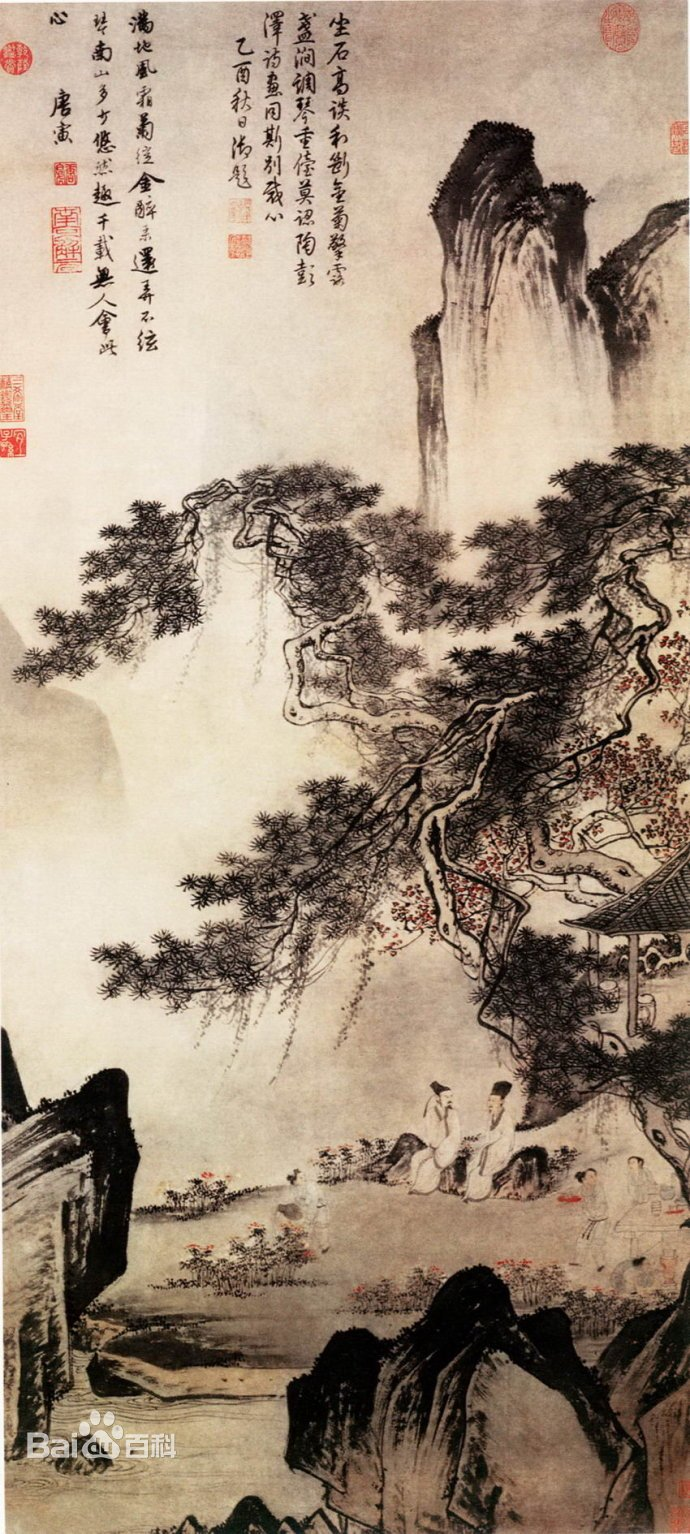booth: (581, 852, 690, 1024)
flower: (591, 749, 690, 849), (632, 639, 690, 736), (197, 1228, 310, 1277), (446, 854, 507, 926), (166, 1175, 250, 1215), (354, 1270, 437, 1308), (574, 1292, 654, 1328), (504, 1262, 568, 1306), (395, 893, 432, 933)
kid: (568, 1166, 611, 1272), (290, 1173, 336, 1248), (622, 1161, 656, 1254)
man: (467, 1085, 515, 1196), (418, 1081, 457, 1198)
mountain: (476, 124, 531, 514), (421, 155, 477, 529), (580, 282, 686, 442), (1, 688, 129, 812), (532, 188, 576, 470), (596, 205, 688, 279)
table: (623, 1183, 690, 1225)
tree: (408, 703, 559, 829), (450, 654, 624, 742), (283, 625, 422, 721), (472, 524, 645, 599), (411, 816, 490, 974), (249, 519, 368, 618), (190, 874, 372, 933), (529, 1043, 690, 1106), (102, 946, 299, 994), (504, 939, 598, 1032), (555, 475, 690, 520), (195, 470, 347, 505), (109, 518, 154, 633), (27, 616, 106, 674), (404, 589, 515, 627), (371, 525, 446, 574), (168, 501, 196, 628), (265, 826, 350, 861), (305, 782, 381, 821), (592, 447, 690, 476), (539, 852, 629, 883), (358, 838, 406, 871)
